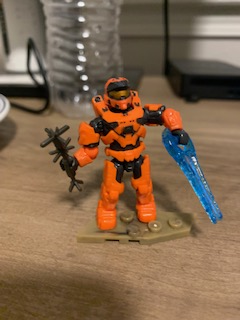spartan: (61, 73, 191, 227)
